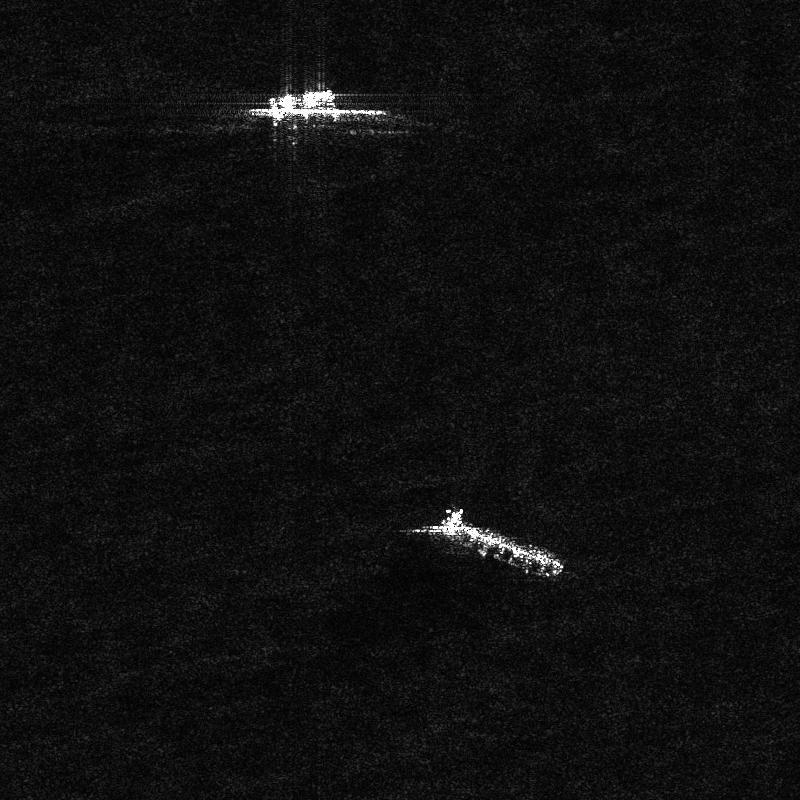ship: (429, 509, 564, 577), (268, 88, 335, 109)
